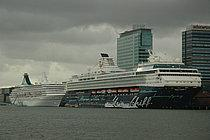Ship: (63, 52, 206, 106), (7, 71, 70, 109)
